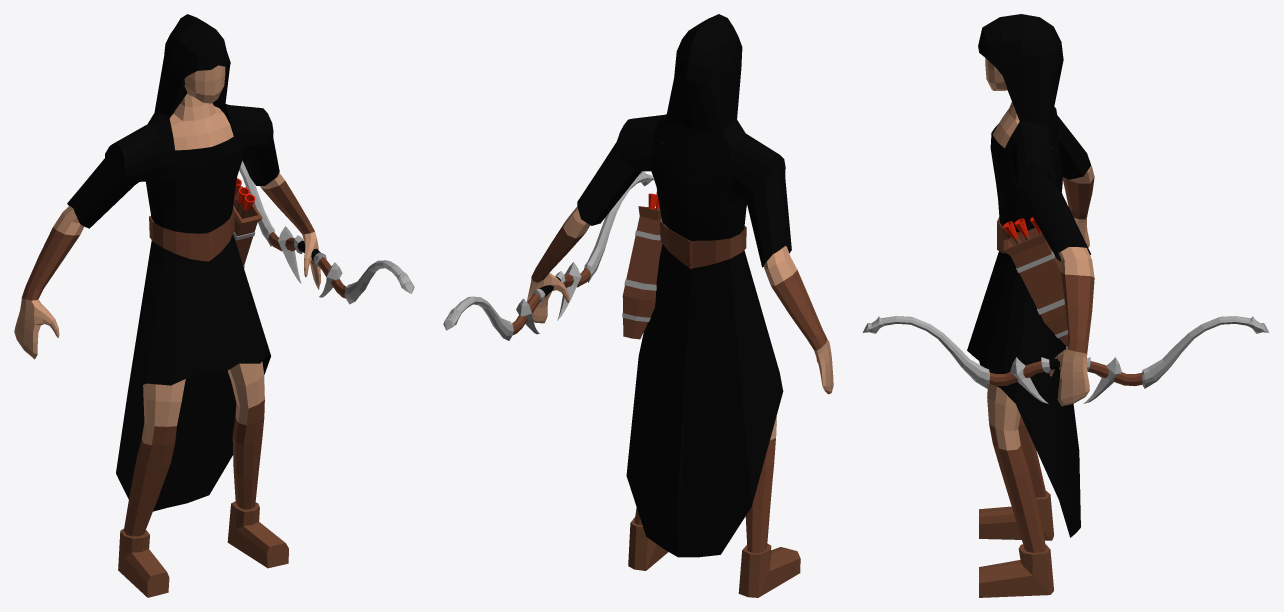
The model's file is RangedEra2.fbx.
3 renders of one model, left to right at view 1: azimuth 30°, elevation 25°; view 2: azimuth 150°, elevation 25°; view 3: azimuth 270°, elevation 25°, orthographic.
Visible parts, largest first — view 1: Cube.003, Cube, Cube.001, Chaussures, Cylinder, Cube.002, Cube.005, Cube.006; view 2: Cube.003, Cylinder, Chaussures, Cube.006, Cube.002, Cube, Cube.005, Cube.001, Cube.007; view 3: Cube.003, Cube, Cylinder, Chaussures, Cube.001, Cube.006, Cube.002.
Part boxes in pixels (x1,y1,x2,y2): Cube.003: [67, 14, 279, 511]; Cube: [14, 65, 320, 445]; Cube.001: [123, 400, 264, 536]; Chaussures: [118, 501, 288, 597]; Cylinder: [239, 161, 414, 304]; Cube.002: [22, 181, 314, 300]; Cube.005: [149, 208, 234, 261]; Cube.006: [233, 186, 262, 265]; Cube.003: [577, 14, 791, 557]; Cylinder: [443, 171, 653, 340]; Chaussures: [628, 517, 800, 597]; Cube.006: [622, 206, 662, 339]; Cube.002: [531, 221, 827, 350]; Cube: [526, 142, 833, 440]; Cube.005: [660, 218, 746, 268]; Cube.001: [634, 438, 775, 552]; Cube.007: [622, 230, 660, 321]; Cube.003: [967, 14, 1091, 537]; Cube: [985, 58, 1094, 450]; Cylinder: [862, 316, 1269, 403]; Chaussures: [979, 491, 1053, 597]; Cube.001: [989, 415, 1046, 552]; Cube.006: [1003, 228, 1068, 346]; Cube.002: [1061, 177, 1094, 353].
Size of the model in its own units: 368 by 646 by 434.
